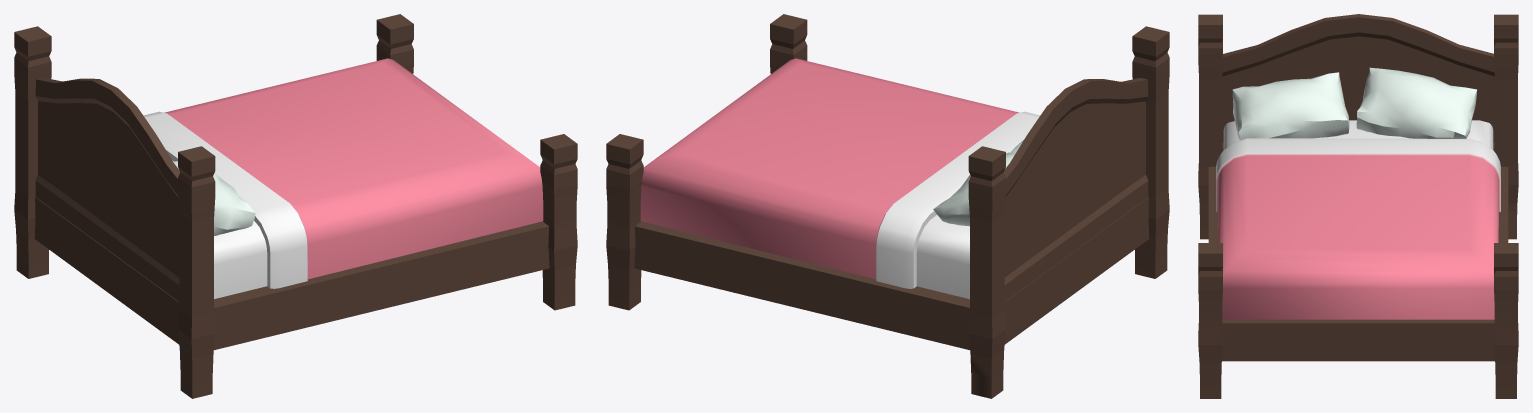
The model's file is STFbed.glb.
3 views of the same model, side by side, from view 1: azimuth 30°, elevation 25°; view 2: azimuth 150°, elevation 25°; view 3: azimuth 270°, elevation 25° (orthographic). The views are drawn at different scales.
Visible parts, largest first — view 1: STFbed; view 2: STFbed; view 3: STFbed.
Boxes of the visible parts, bbox=[...] form: STFbed: bbox=[14, 14, 577, 398]; STFbed: bbox=[606, 14, 1169, 398]; STFbed: bbox=[1198, 14, 1518, 398].
Size of the model in its own units: 1.97 by 1.18 by 1.57.
Materials: 1 (1 with a texture image).
